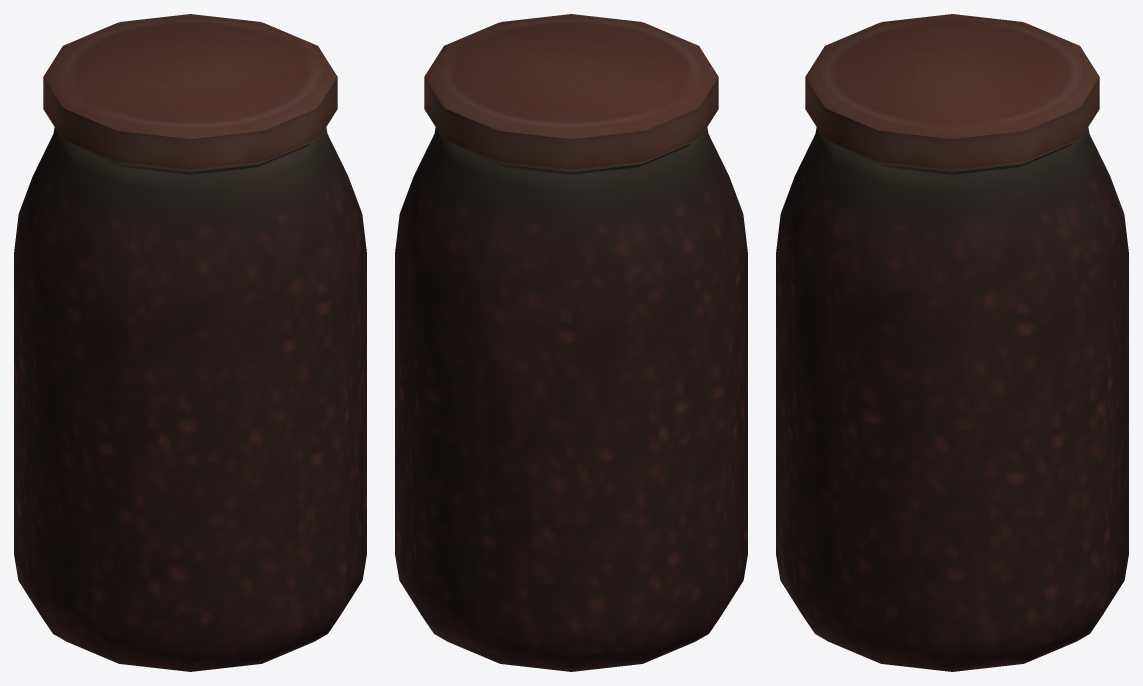
Rendered from jam_jar_mp_1_medium.obj.
3 views of the same model, side by side, from view 1: azimuth 30°, elevation 25°; view 2: azimuth 150°, elevation 25°; view 3: azimuth 270°, elevation 25° (orthographic).
Parts seen in each view (by area): view 1: jam_jar_mp_1_medium; view 2: jam_jar_mp_1_medium; view 3: jam_jar_mp_1_medium.
Boxes of the visible parts, <box> form: jam_jar_mp_1_medium: <box>14,14,366,671</box>; jam_jar_mp_1_medium: <box>395,14,747,671</box>; jam_jar_mp_1_medium: <box>776,14,1128,671</box>.
Bounding box in the file's own units: 0.1455 × 0.2453 × 0.1455.
